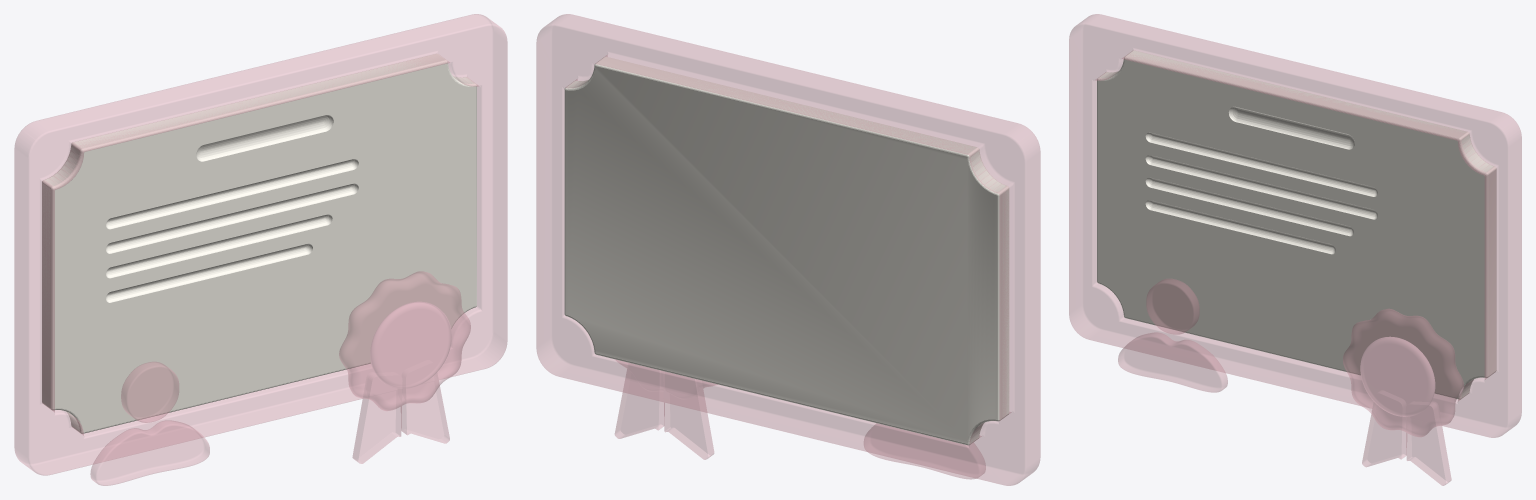
File: iam-role.glb
The picture shows the model from 3 angles, left to right: view 1: azimuth 30°, elevation 25°; view 2: azimuth 150°, elevation 25°; view 3: azimuth 330°, elevation 25°; orthographic projection. The views are drawn at different scales.
Parts seen in each view (by area): view 1: Engraved glass plaque, Certificate frame, Scalloped ribbon seal, Person silhouette, Raised ribbon medallion, Ribbon tail left, Ribbon tail right; view 2: Engraved glass plaque, Certificate frame, Person silhouette, Ribbon tail left, Ribbon tail right; view 3: Engraved glass plaque, Certificate frame, Scalloped ribbon seal, Person silhouette, Raised ribbon medallion, Ribbon tail right, Ribbon tail left.
Boxes of the visible parts, x1,y1,x2,y2 form: Engraved glass plaque: (42, 53, 476, 433); Certificate frame: (14, 14, 507, 475); Scalloped ribbon seal: (339, 271, 470, 410); Person silhouette: (90, 362, 209, 485); Raised ribbon medallion: (370, 302, 451, 388); Ribbon tail left: (352, 373, 401, 463); Ribbon tail right: (401, 373, 449, 443); Engraved glass plaque: (564, 56, 1009, 445); Certificate frame: (536, 14, 1040, 485); Person silhouette: (864, 424, 985, 479); Ribbon tail left: (663, 371, 713, 459); Ribbon tail right: (615, 363, 664, 438); Engraved glass plaque: (1097, 50, 1496, 399); Certificate frame: (1069, 14, 1521, 437); Scalloped ribbon seal: (1343, 309, 1463, 436); Person silhouette: (1118, 279, 1227, 392); Raised ribbon medallion: (1360, 337, 1434, 416); Ribbon tail right: (1406, 402, 1451, 485); Ribbon tail left: (1362, 402, 1406, 466).
Size of the model in its own units: 4.4 by 3.54 by 0.46.
